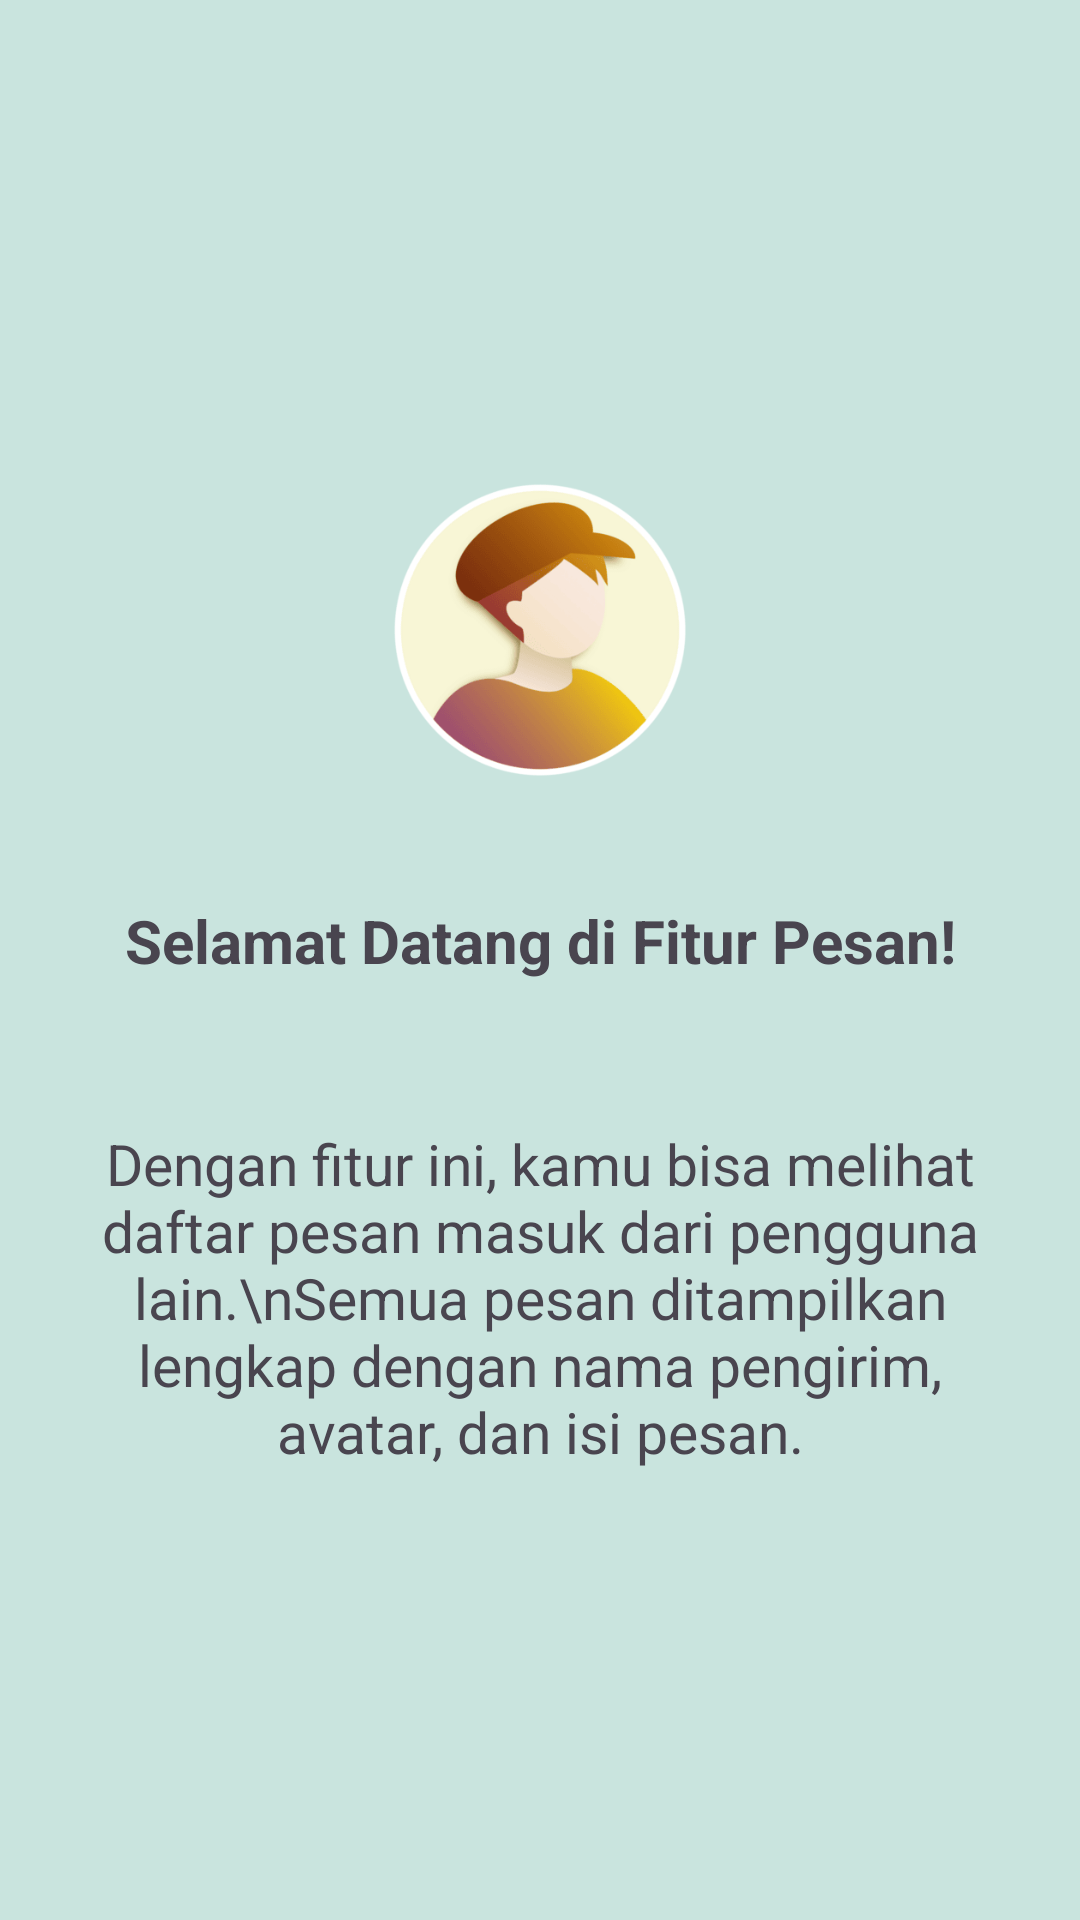

Screen size 1080 × 1920. Icon name, then its box in pixels as (x1, y1, x2, y2):
profil: (395, 485, 685, 775)
